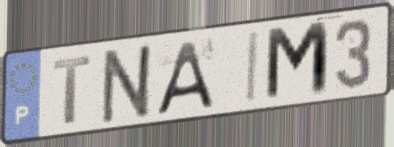3: (333, 16, 375, 93)
A: (152, 38, 216, 118)
I: (243, 29, 262, 106)
M: (263, 18, 332, 106)
N: (98, 41, 158, 127)
T: (51, 52, 94, 127)
